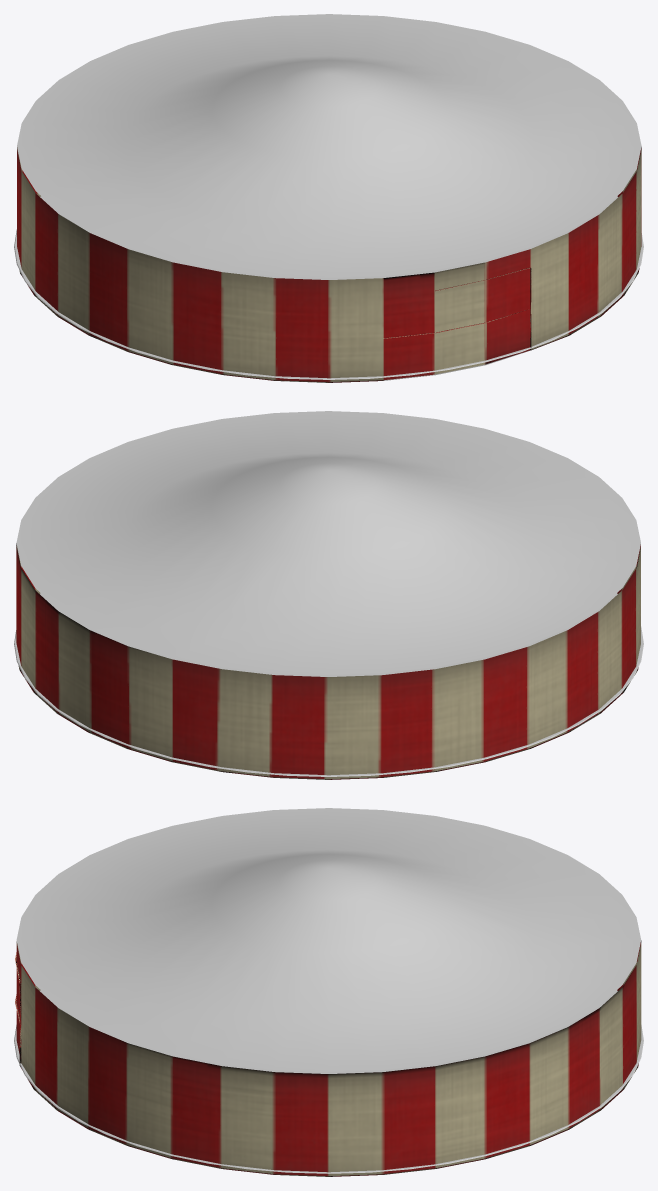
File: LVR_CircusTent.fbx
3 renders of one model, top to bottom at view 1: azimuth 30°, elevation 25°; view 2: azimuth 150°, elevation 25°; view 3: azimuth 270°, elevation 25°, orthographic.
Parts seen in each view (by area): view 1: pasted__polySurface5, pasted__polySurface3, pasted__Base1; view 2: pasted__polySurface5, pasted__polySurface3, pasted__Base1; view 3: pasted__polySurface5, pasted__polySurface3, pasted__Base1.
Boxes of the visible parts, bbox=[...] form: pasted__polySurface5: bbox=[17, 14, 641, 277]; pasted__polySurface3: bbox=[17, 147, 641, 382]; pasted__Base1: bbox=[14, 196, 643, 379]; pasted__polySurface5: bbox=[16, 411, 640, 674]; pasted__polySurface3: bbox=[16, 545, 640, 779]; pasted__Base1: bbox=[14, 593, 643, 776]; pasted__polySurface5: bbox=[16, 808, 641, 1071]; pasted__polySurface3: bbox=[15, 941, 641, 1176]; pasted__Base1: bbox=[14, 990, 643, 1173].
Size of the model in its own units: 294 by 90.87 by 294.
